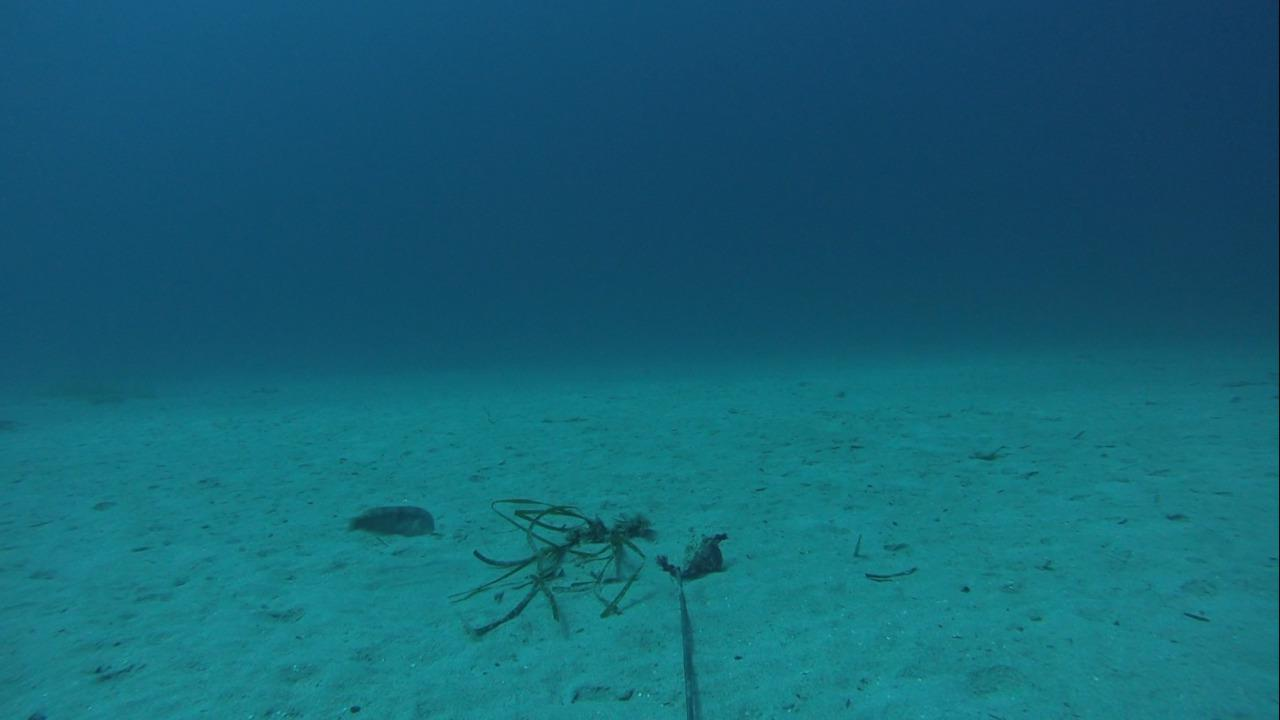raor: (333, 497, 439, 543)
